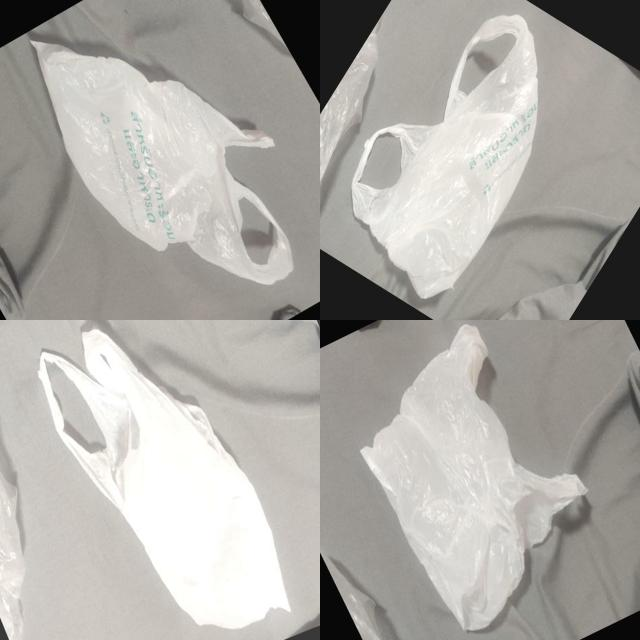Single-layer Plastic: (39, 329, 290, 629), (361, 325, 586, 630), (31, 41, 292, 285), (351, 15, 538, 299)
